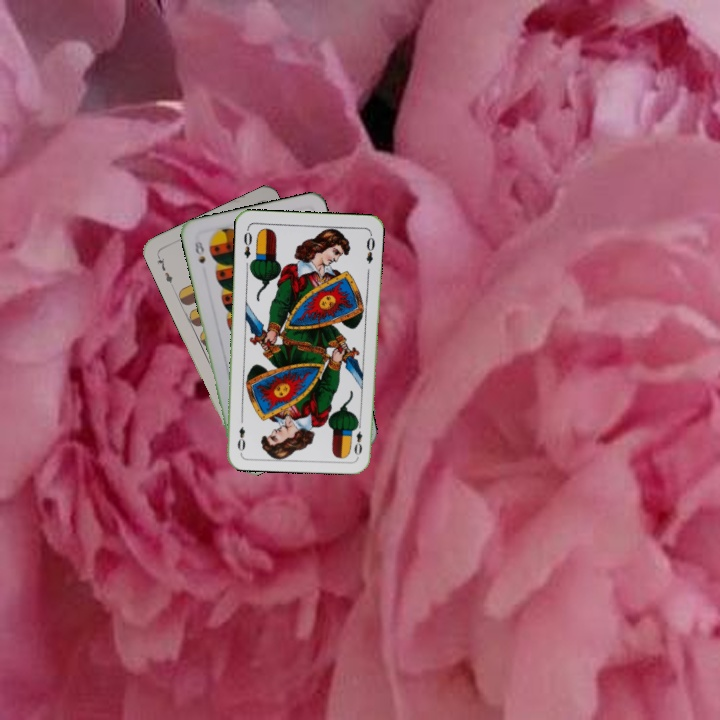E7: (153, 251, 175, 289)
EO: (350, 418, 365, 458), (240, 225, 255, 261)
S8: (191, 237, 208, 266)
